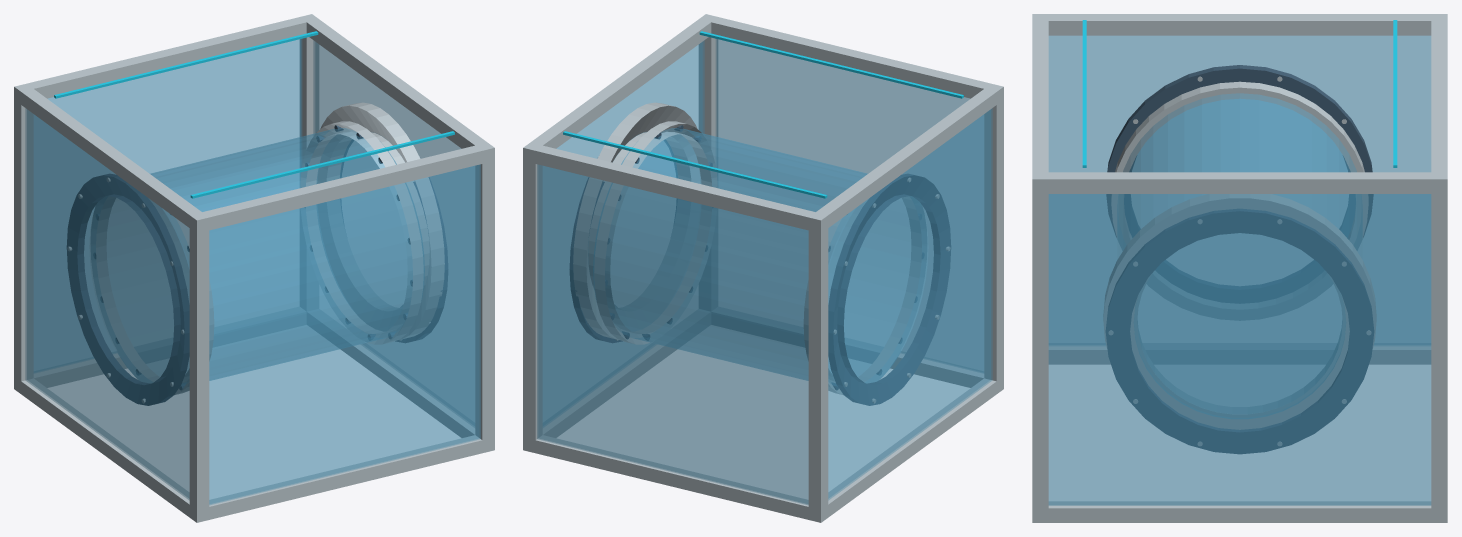
Rendered from 21_L75_TransparentWaferEndstation.fbx.
3 renders of one model, left to right at view 1: azimuth 30°, elevation 25°; view 2: azimuth 150°, elevation 25°; view 3: azimuth 270°, elevation 25°, orthographic. The views are drawn at different scales.
Parts seen in each view (by area): view 1: TransparentWaferEndstation, TransparentWaferEndstation_Part_0071, TransparentWaferEndstation_Part_0072; view 2: TransparentWaferEndstation, TransparentWaferEndstation_Part_0071, TransparentWaferEndstation_Part_0072; view 3: TransparentWaferEndstation, TransparentWaferEndstation_Part_0072, TransparentWaferEndstation_Part_0071.
Boxes of the visible parts, <box> form: TransparentWaferEndstation: <box>14,14,494,522</box>; TransparentWaferEndstation_Part_0071: <box>316,102,444,339</box>; TransparentWaferEndstation_Part_0072: <box>340,132,398,177</box>; TransparentWaferEndstation: <box>523,14,1003,522</box>; TransparentWaferEndstation_Part_0071: <box>573,102,701,339</box>; TransparentWaferEndstation_Part_0072: <box>619,132,677,177</box>; TransparentWaferEndstation: <box>1032,14,1447,522</box>; TransparentWaferEndstation_Part_0072: <box>1134,233,1345,418</box>; TransparentWaferEndstation_Part_0071: <box>1103,194,1376,429</box>.
Bounding box in the file's own units: 335 × 329 × 356.
